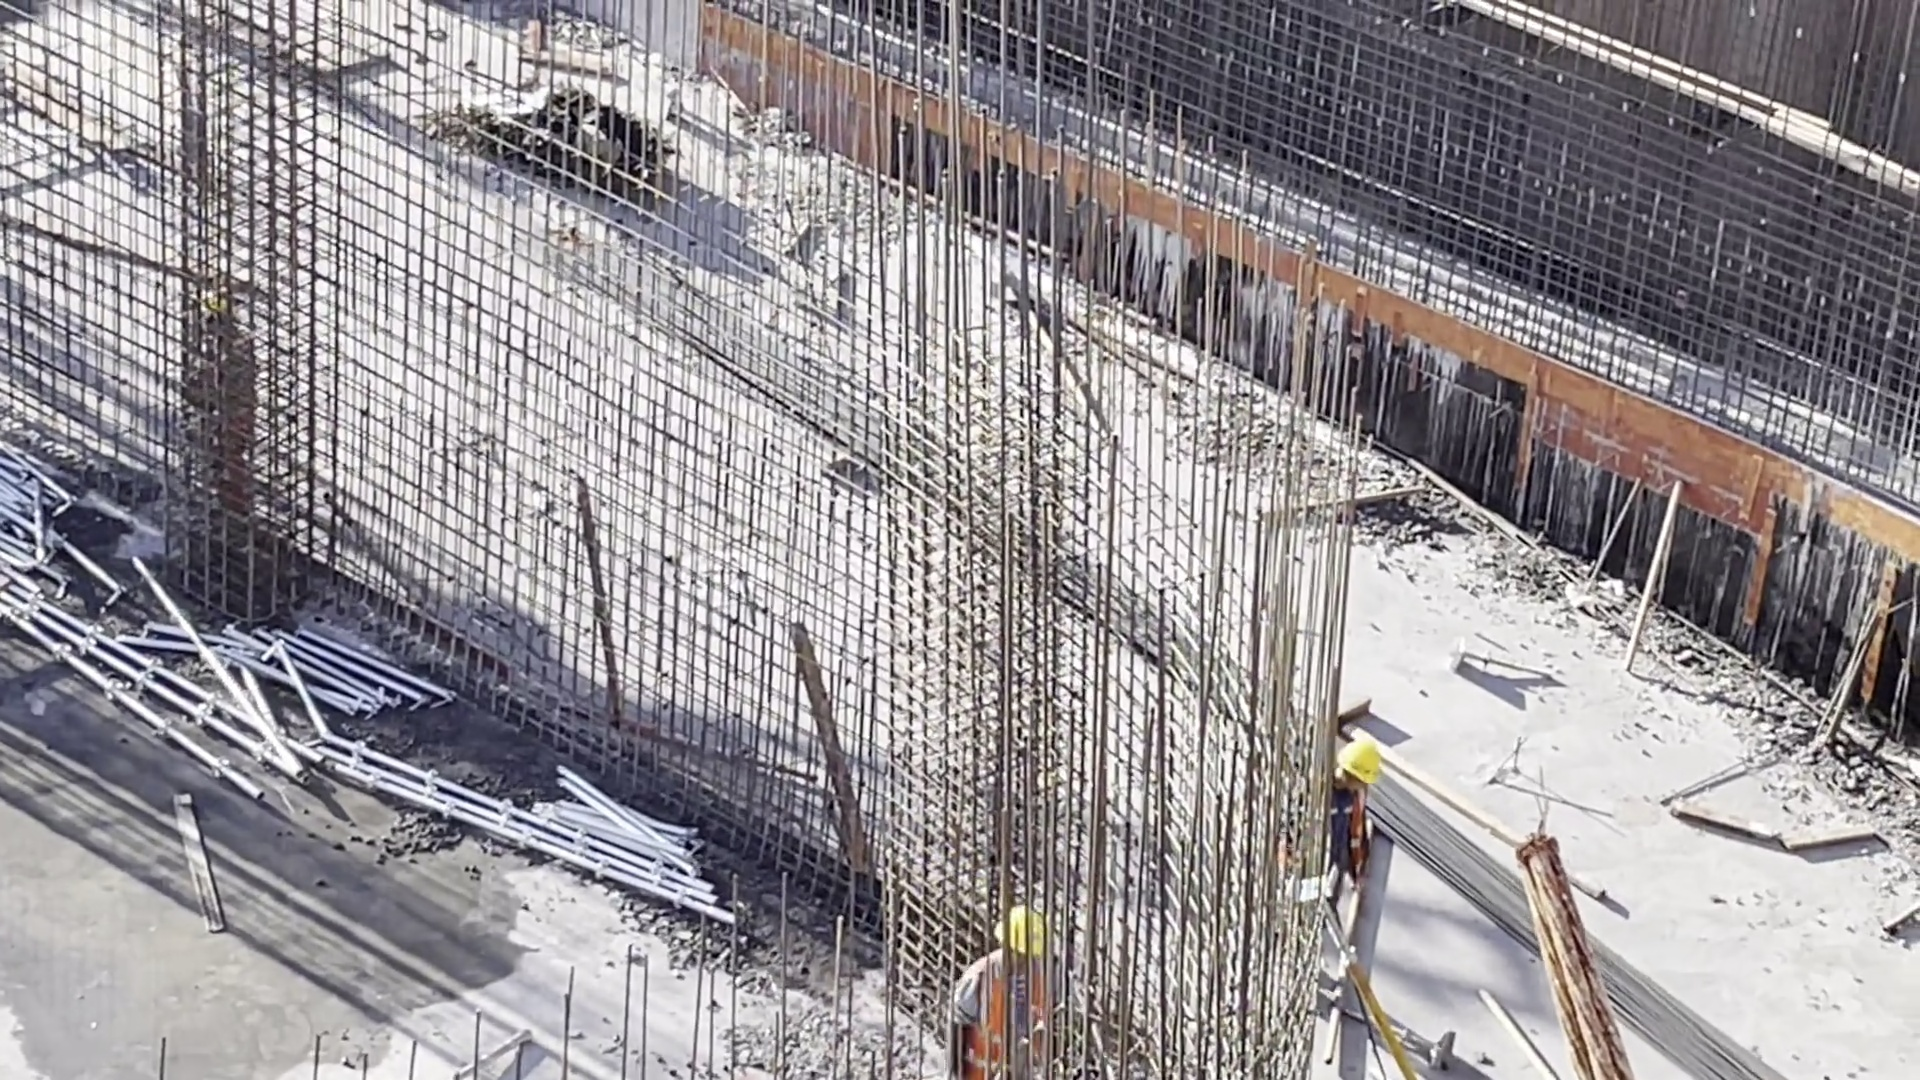helmet: (1332, 732, 1393, 787), (996, 906, 1062, 953)
person: (928, 911, 1075, 1080), (174, 287, 281, 501), (1300, 745, 1395, 976)
rebar: (1415, 799, 1748, 1080)
scaffold: (197, 605, 454, 773), (516, 770, 729, 914), (1, 472, 71, 585)
vest: (952, 967, 1060, 1079), (1331, 796, 1375, 878)
